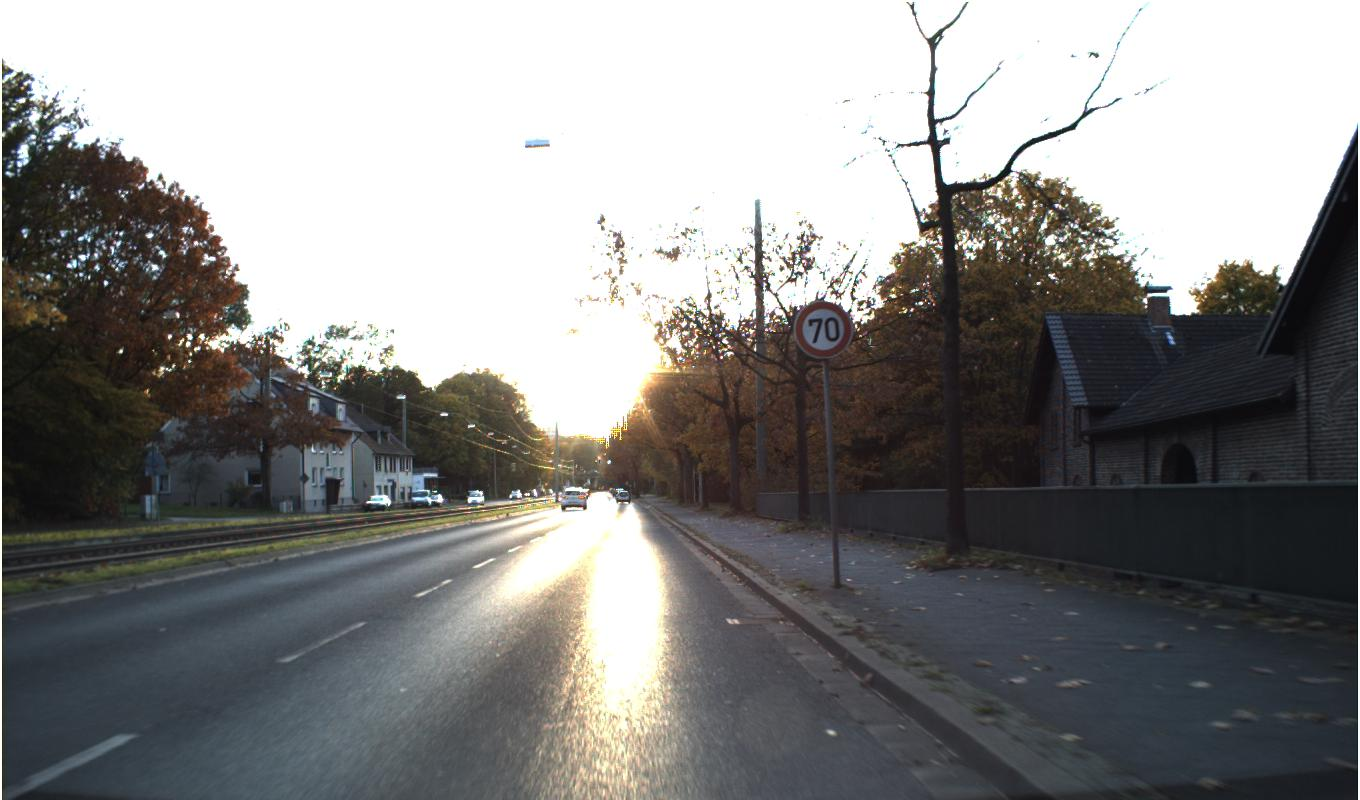prohibitory: (793, 299, 853, 359)
